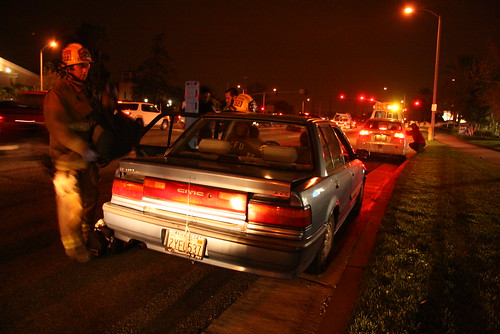car: (111, 113, 373, 277), (357, 115, 410, 159)
firefighter: (49, 44, 107, 267)
grass: (405, 156, 500, 334)
light pole: (403, 3, 440, 139)
sky: (80, 1, 414, 81)
